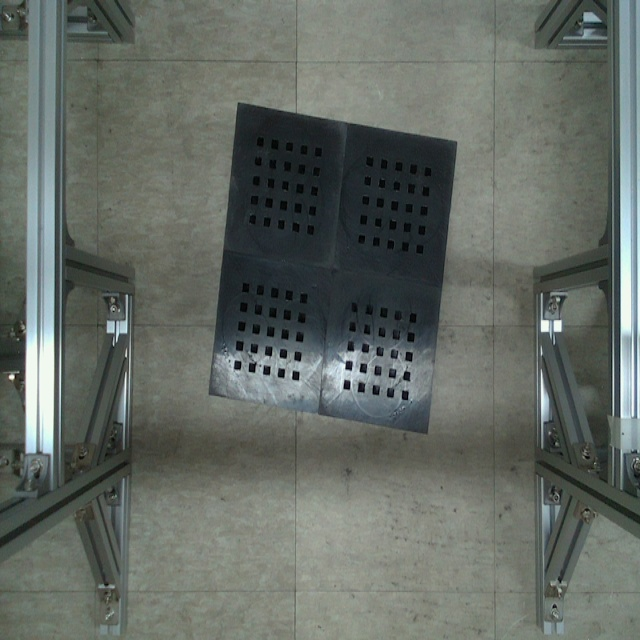pallet: (201, 96, 468, 442)
